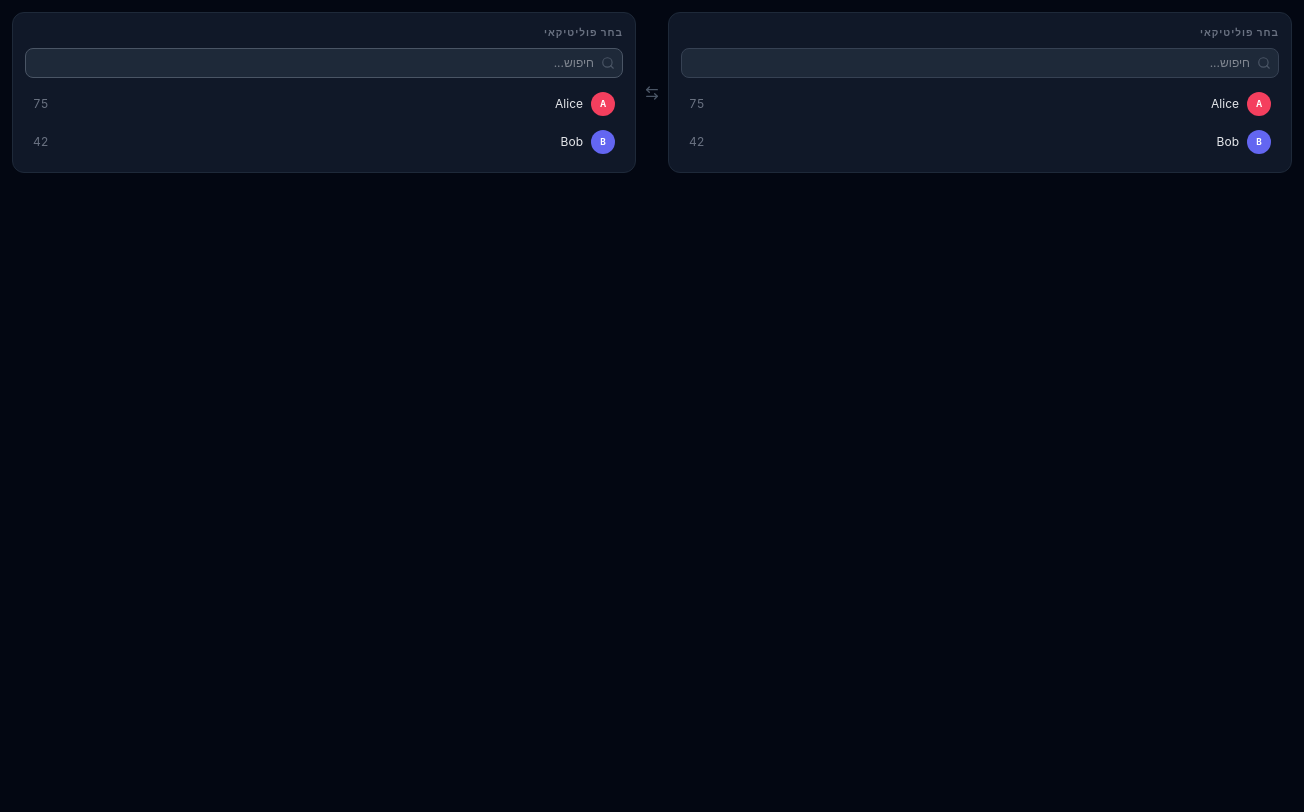
it: CompareView › shows comparison after selecting two politicians
This screenshot has width=1304, height=812.
Check: the number of fields with placeholder "חיפוש..." is 2, box left=681, top=48, right=1279, bottom=78; left=25, top=48, right=623, bottom=78
Select first politician in picker A (click Alice row — display score 75)
Click the 2nd text "75": x=697, y=104 left=689, top=96, right=705, bottom=112
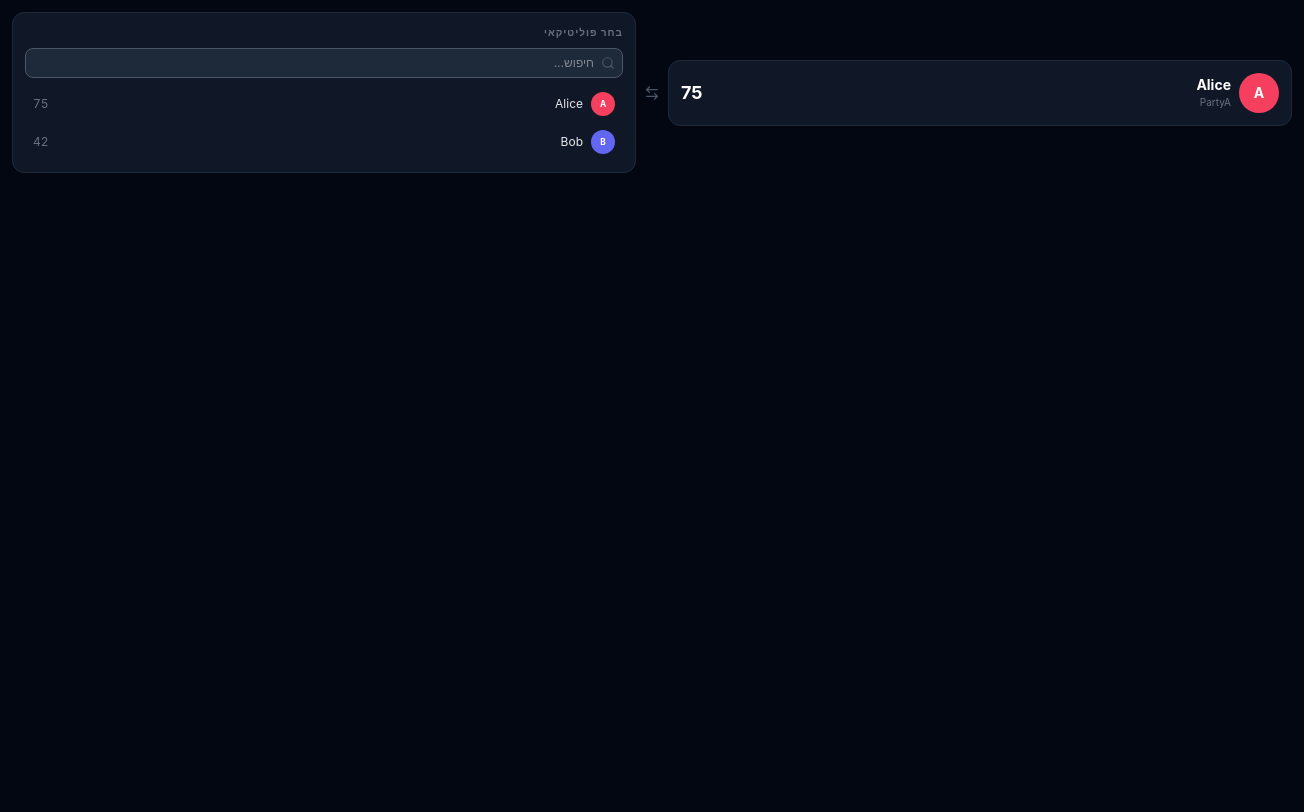
Select Bob in picker B (click Bob row — display score 42)
Click the text "42": x=41, y=142 left=33, top=134, right=49, bottom=150
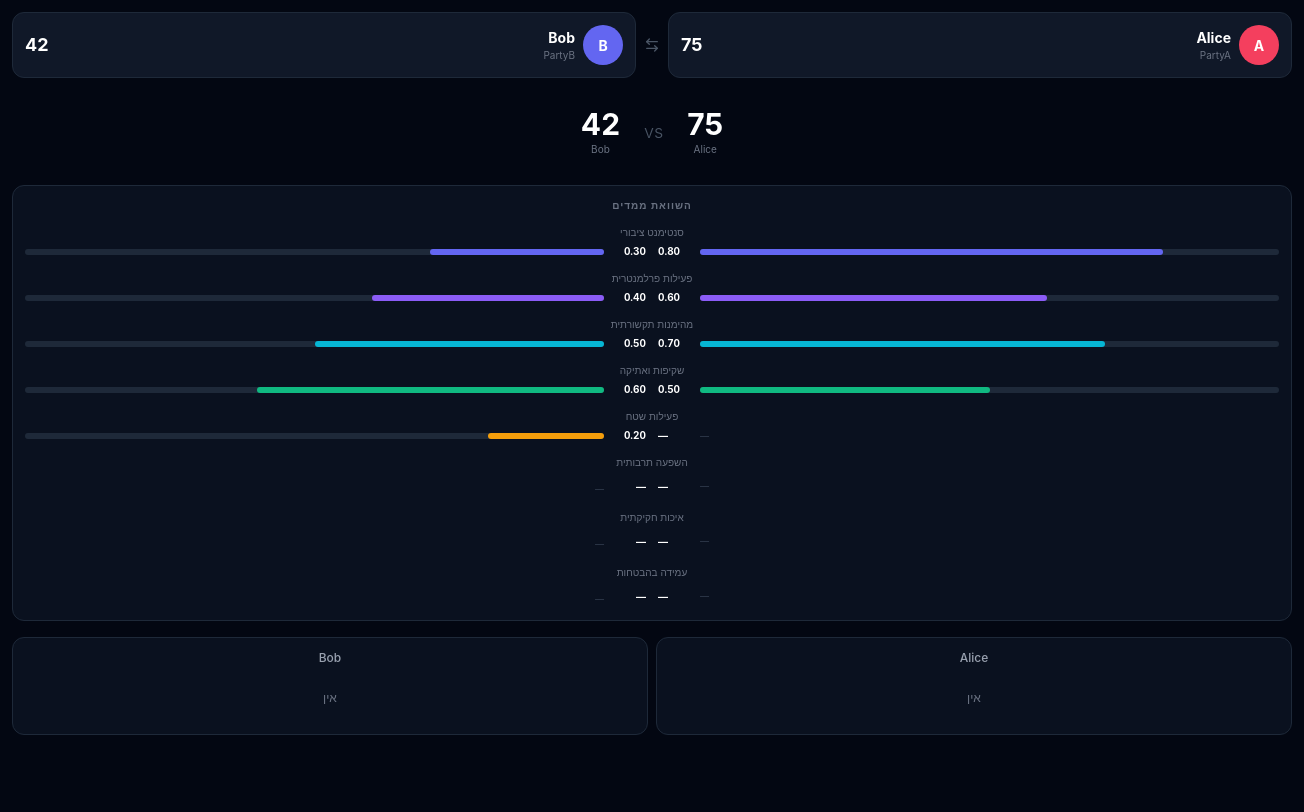
Check: the text "vs" is shown, box left=644, top=118, right=663, bottom=146
Check: the text "השוואת ממדים" is shown, box left=612, top=199, right=692, bottom=211
